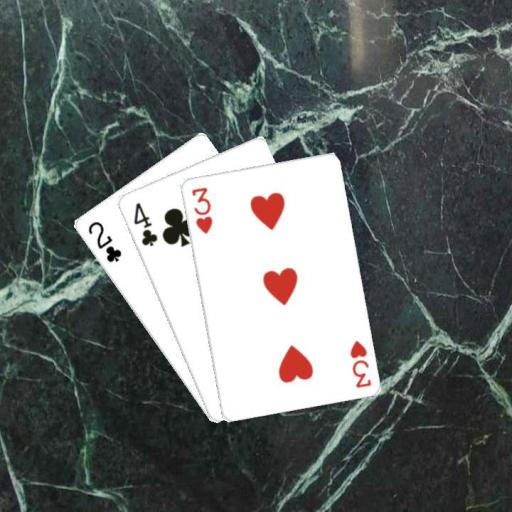2C: (84, 218, 123, 264)
3H: (346, 337, 373, 389), (188, 184, 213, 236)
4C: (130, 199, 159, 248)
